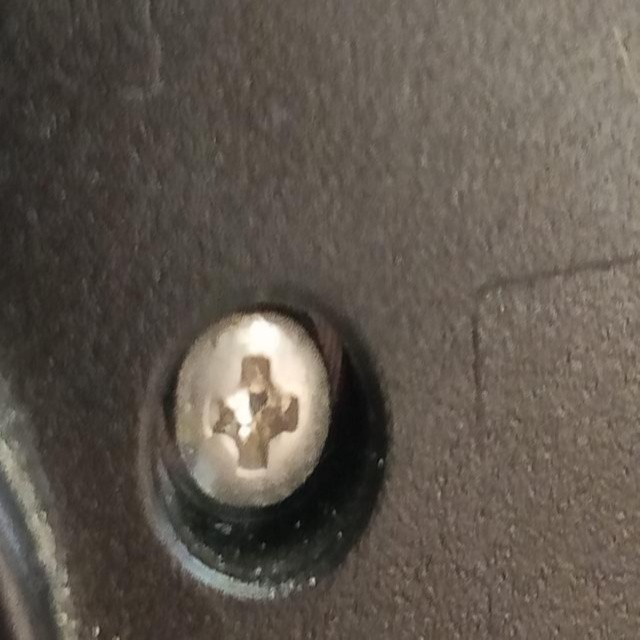phillips: (170, 308, 334, 515)
